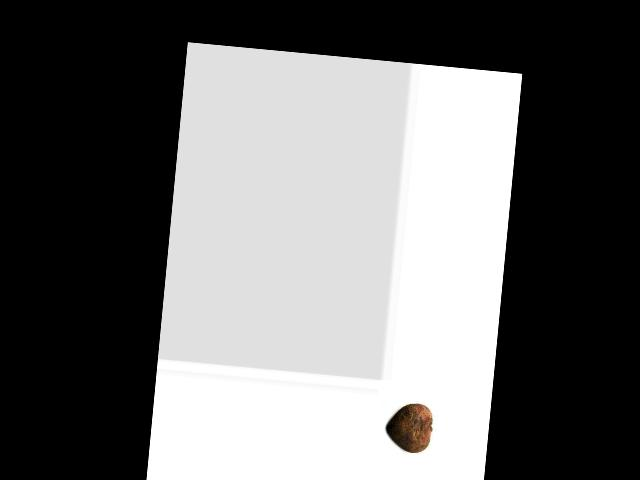beet: (384, 400, 433, 454)
